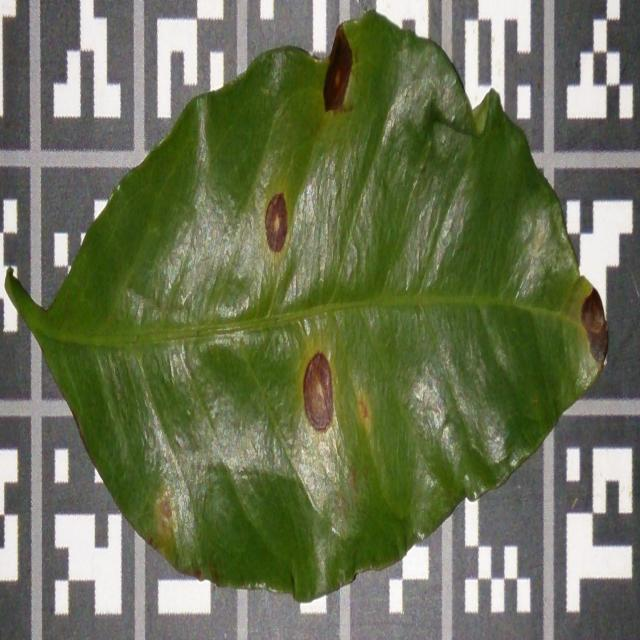Enfermedad-Mancha-de-hierro: (3, 13, 607, 605)
